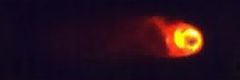keyhole: (183, 34, 199, 48)
